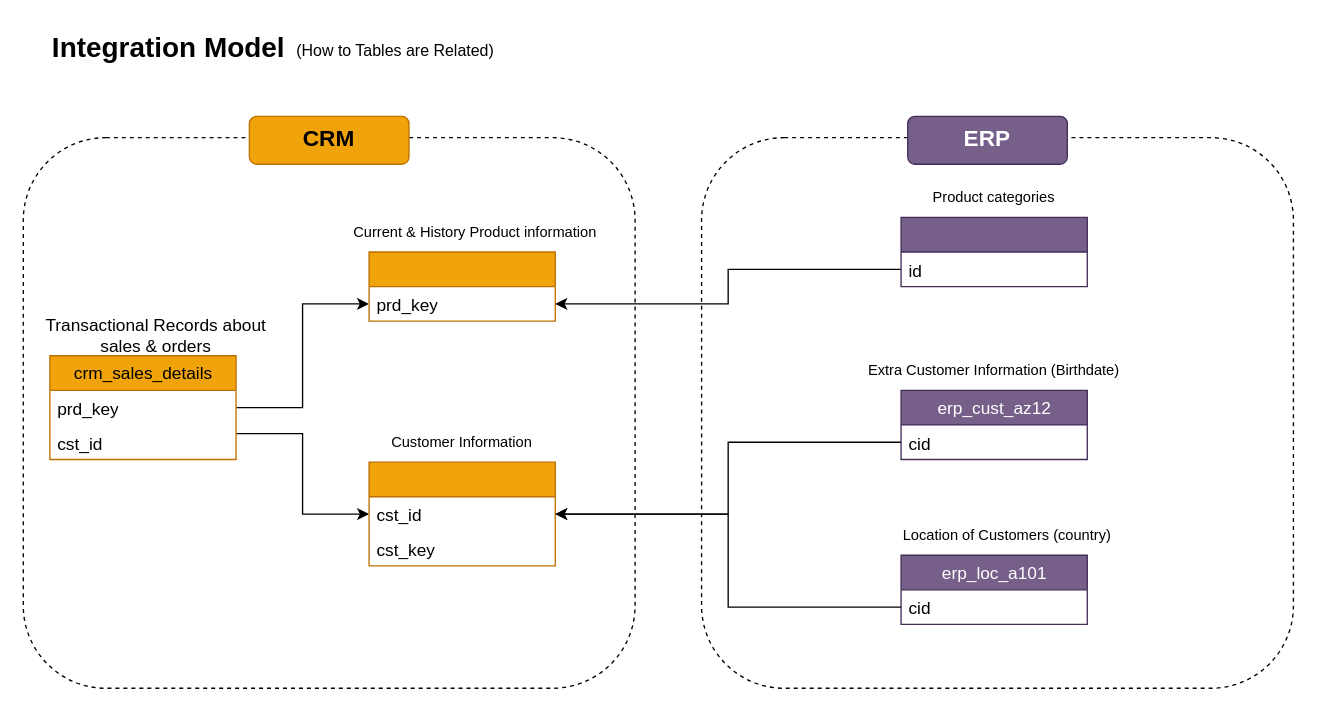
Some shapes in this 1317 by 712 pixel diagram are drawn without their labels. Each missing label, with the box of its shape:
crm_prd_info: (368, 251, 555, 321)
crrm_cust_info: (368, 461, 555, 566)
erp_px_cat_g1v2: (900, 216, 1087, 287)
